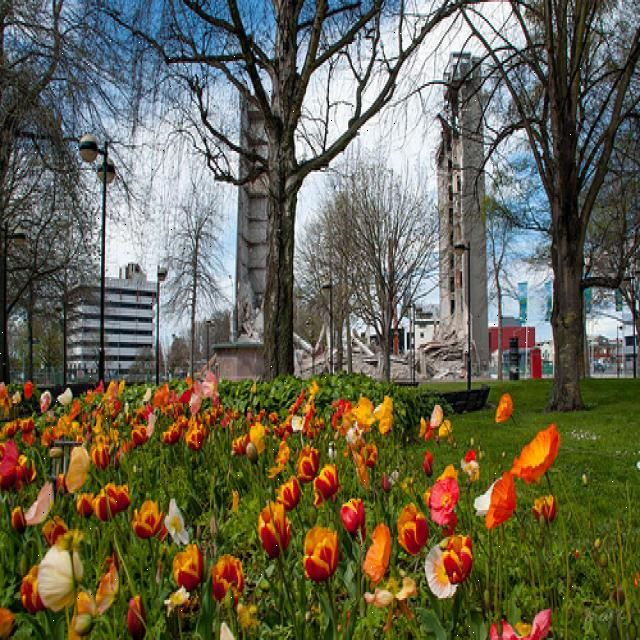Bloomed: (2, 369, 568, 632)
